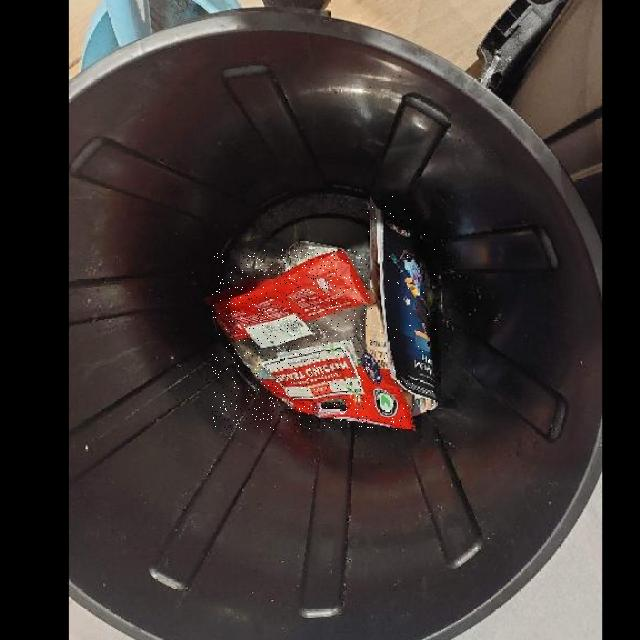paper: (367, 196, 437, 415)
wrapper: (213, 249, 414, 429)
